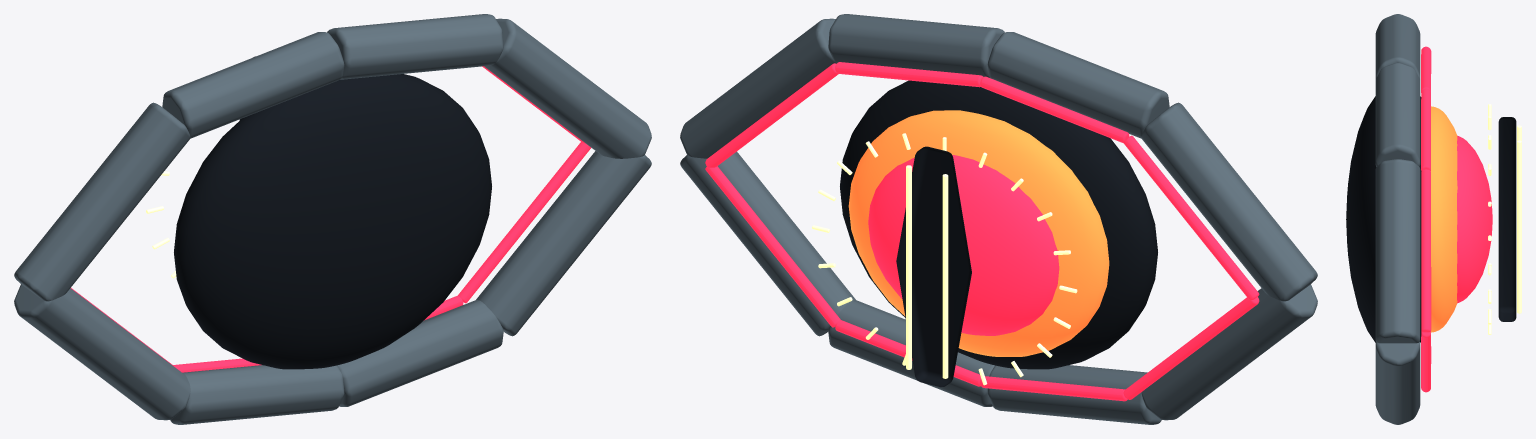
File: watcher_eye.glb
The picture shows the model from 3 angles, left to right: view 1: azimuth 30°, elevation 25°; view 2: azimuth 150°, elevation 25°; view 3: azimuth 270°, elevation 25°; orthographic projection. The views are drawn at different scales.
Visible parts, largest first — view 1: Layered reactor lens, Armoured eye bezel, Armoured eye bezel.004, Armoured eye bezel.007, Armoured eye bezel.001, Armoured eye bezel.003, Armoured eye bezel.002, Armoured eye bezel.005, Armoured eye bezel.006, Hot inner eyelid.004, Hot inner eyelid.006; view 2: Layered reactor lens.001, Layered reactor lens, Layered reactor lens.002, Armoured eye bezel, Vertical pupil, Armoured eye bezel.001, Armoured eye bezel.004, Armoured eye bezel.007, Armoured eye bezel.002, Armoured eye bezel.003, Armoured eye bezel.006, Armoured eye bezel.005 (+10 smaller); view 3: Armoured eye bezel.003, Layered reactor lens, Layered reactor lens.001, Layered reactor lens.002, Armoured eye bezel.002, Vertical pupil, Armoured eye bezel.004, Armoured eye bezel.001, Hot inner eyelid.003, Pupil hot lip.001, Hot inner eyelid.002, Hot inner eyelid.004 (+1 smaller).
Part boxes in pixels (<box>): Layered reactor lens: <box>174,74,491,369</box>; Armoured eye bezel: <box>14,102,190,301</box>; Armoured eye bezel.004: <box>476,151,651,336</box>; Armoured eye bezel.007: <box>14,284,190,420</box>; Armoured eye bezel.001: <box>162,32,344,138</box>; Armoured eye bezel.003: <box>484,18,651,158</box>; Armoured eye bezel.002: <box>327,14,503,79</box>; Armoured eye bezel.005: <box>337,300,503,406</box>; Armoured eye bezel.006: <box>170,365,344,424</box>; Hot inner eyelid.004: <box>458,142,590,303</box>; Hot inner eyelid.006: <box>173,358,261,372</box>; Layered reactor lens.001: <box>848,110,1109,356</box>; Layered reactor lens: <box>840,80,1157,369</box>; Layered reactor lens.002: <box>868,155,1059,335</box>; Armoured eye bezel: <box>1141,102,1317,301</box>; Vertical pupil: <box>896,146,971,387</box>; Armoured eye bezel.001: <box>987,32,1169,138</box>; Armoured eye bezel.004: <box>680,151,855,336</box>; Armoured eye bezel.007: <box>1141,284,1317,420</box>; Armoured eye bezel.002: <box>828,14,1004,77</box>; Armoured eye bezel.003: <box>680,18,836,158</box>; Armoured eye bezel.006: <box>987,365,1161,424</box>; Armoured eye bezel.005: <box>828,300,994,406</box>; Armoured eye bezel.003: <box>1375,159,1420,343</box>; Layered reactor lens: <box>1346,96,1421,342</box>; Layered reactor lens.001: <box>1431,106,1457,332</box>; Layered reactor lens.002: <box>1457,135,1492,303</box>; Armoured eye bezel.002: <box>1375,63,1420,166</box>; Vertical pupil: <box>1498,117,1516,321</box>; Armoured eye bezel.004: <box>1375,342,1420,424</box>; Armoured eye bezel.001: <box>1375,14,1420,79</box>; Hot inner eyelid.003: <box>1421,169,1431,332</box>; Pupil hot lip.001: <box>1517,140,1521,313</box>; Hot inner eyelid.002: <box>1421,89,1430,170</box>; Hot inner eyelid.004: <box>1421,331,1430,392</box>.
Size of the model in its own units: 4.15 by 2.37 by 1.19.
